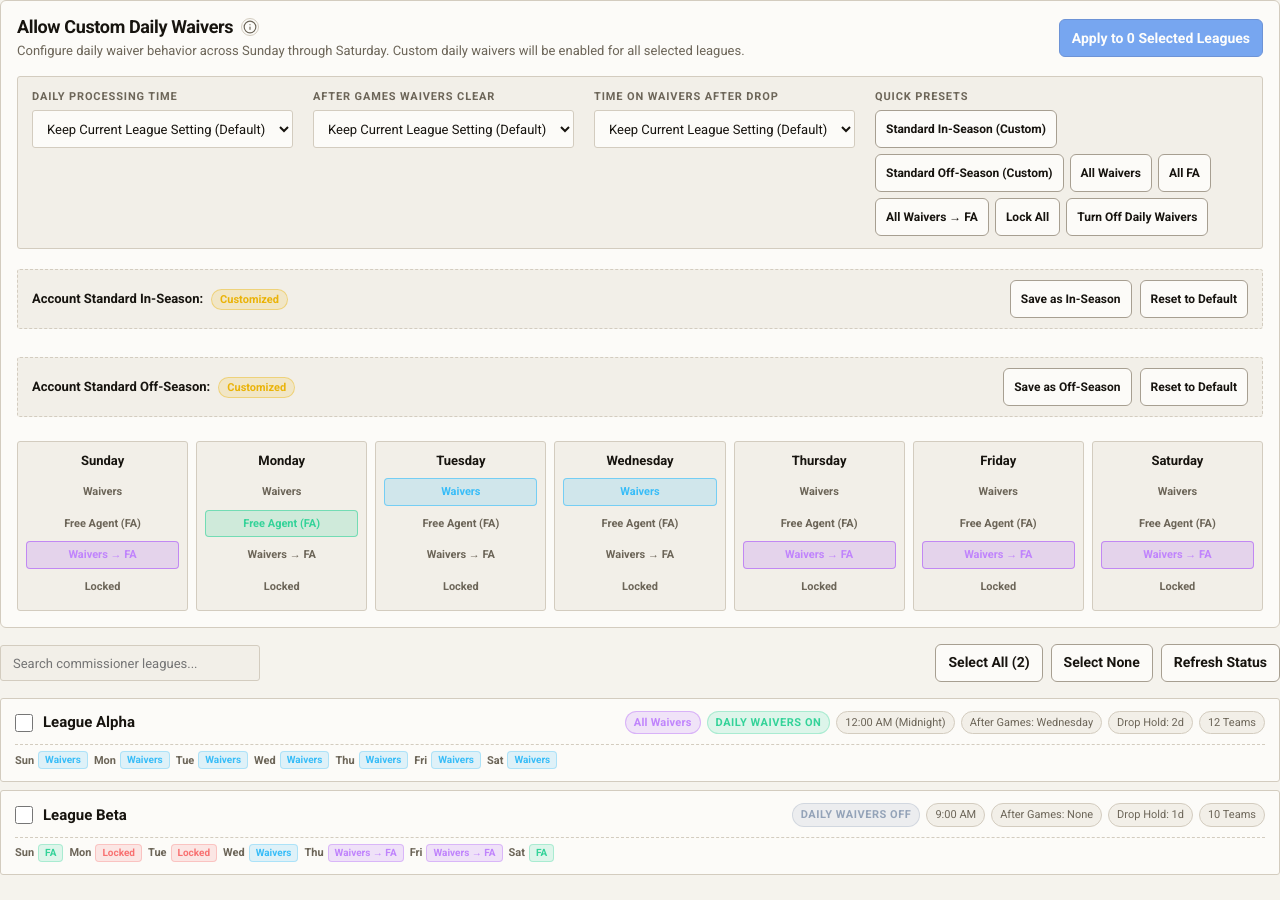
Test: CommissionerWaiversTab › opens and closes the Allow Custom Daily Waivers info modal
What coordinates should you click on to do the following:
click the button named "Allow Custom Daily Waivers Information"
I would click on:
 (250, 27)
Its box is [241,18,259,36].
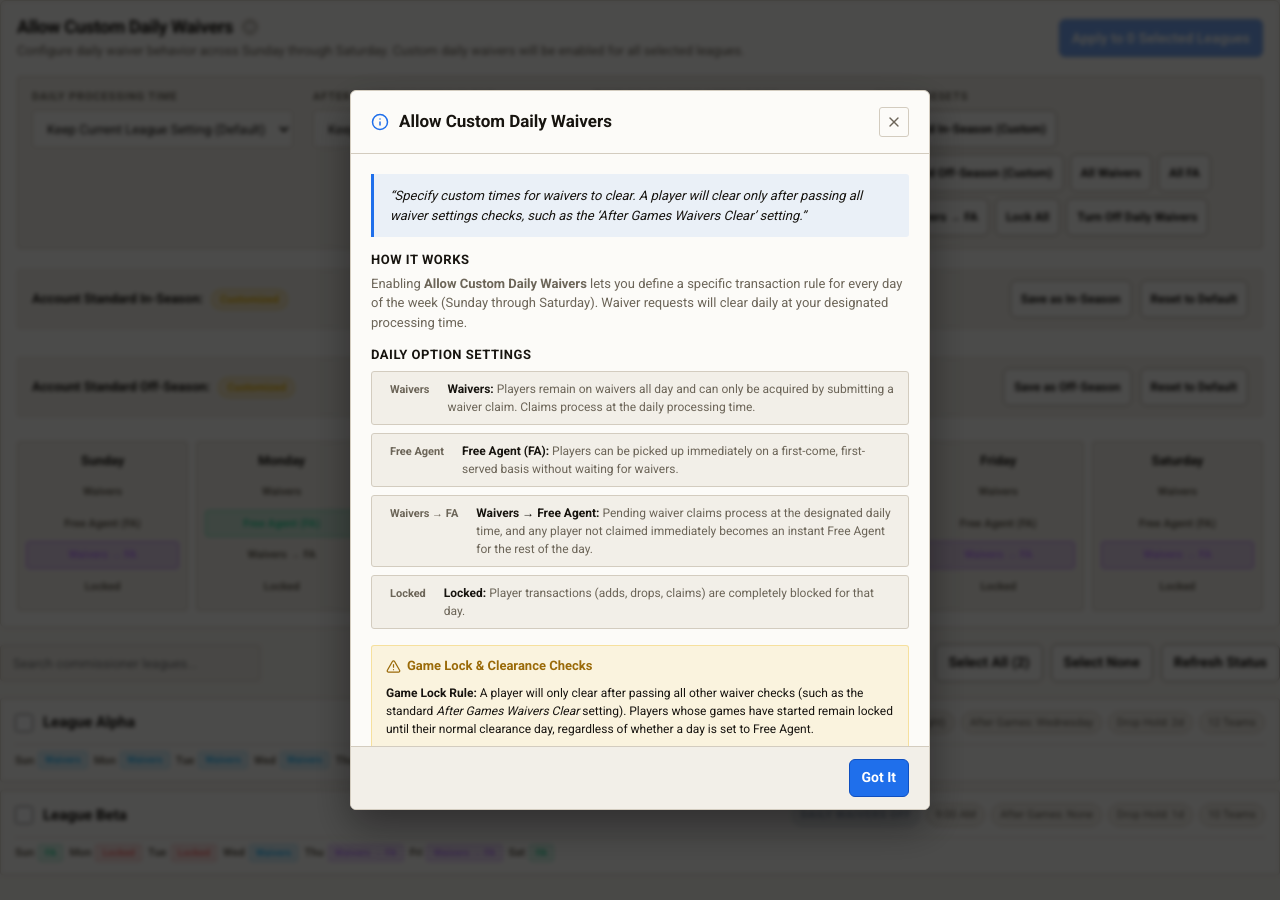
Check: the dialog is shown
Check: the text "Specify custom times for waivers to clear" is shown, box [390,188,862,222]
Check: the dialog shows "After Games Waivers Clear", box [436,704,579,718]
Close via Got It button
What coordinates should you click on to do the following:
click the button "Got It"
I would click on:
 (879, 778)
Its box is [848,759,909,797].
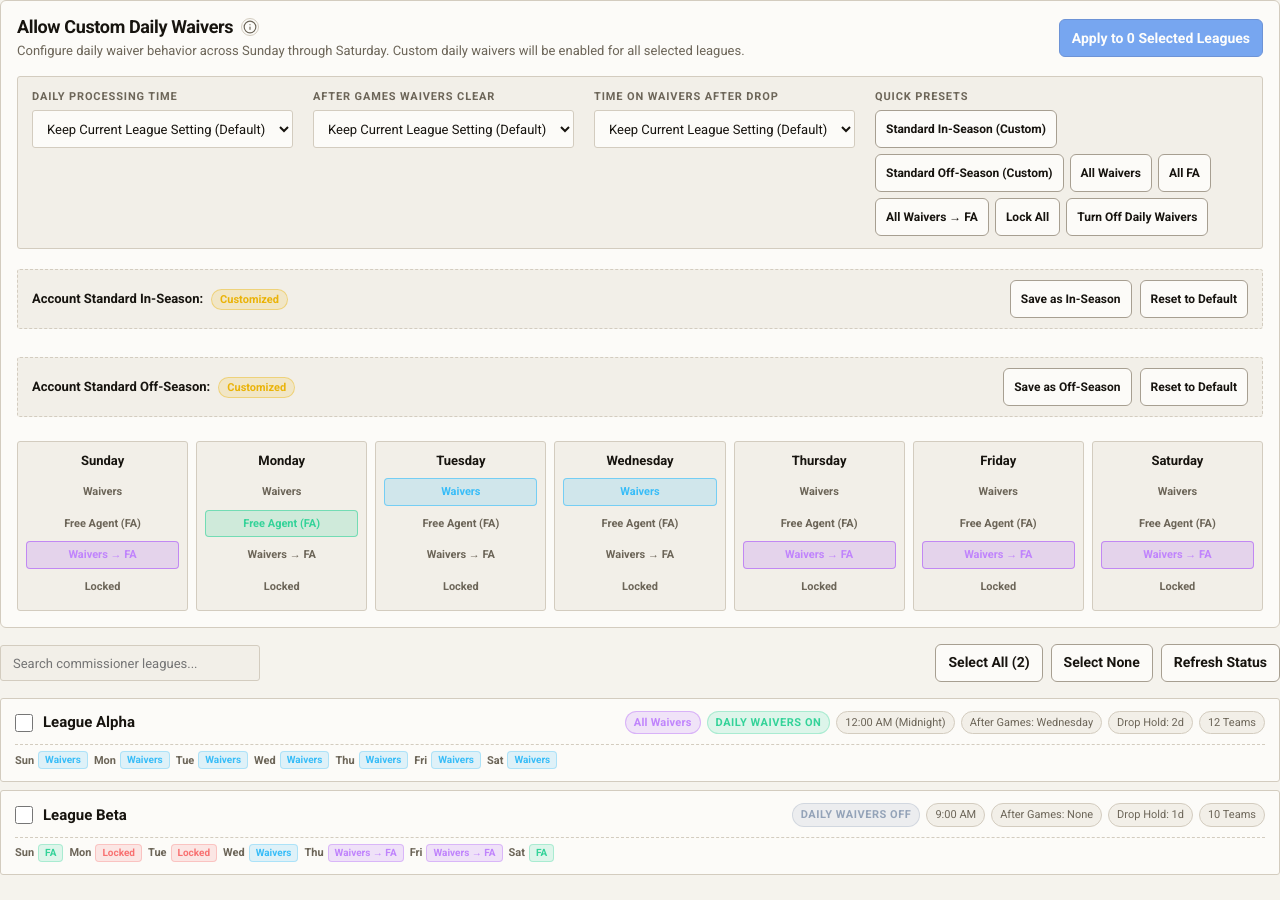
Check: the dialog is gone
